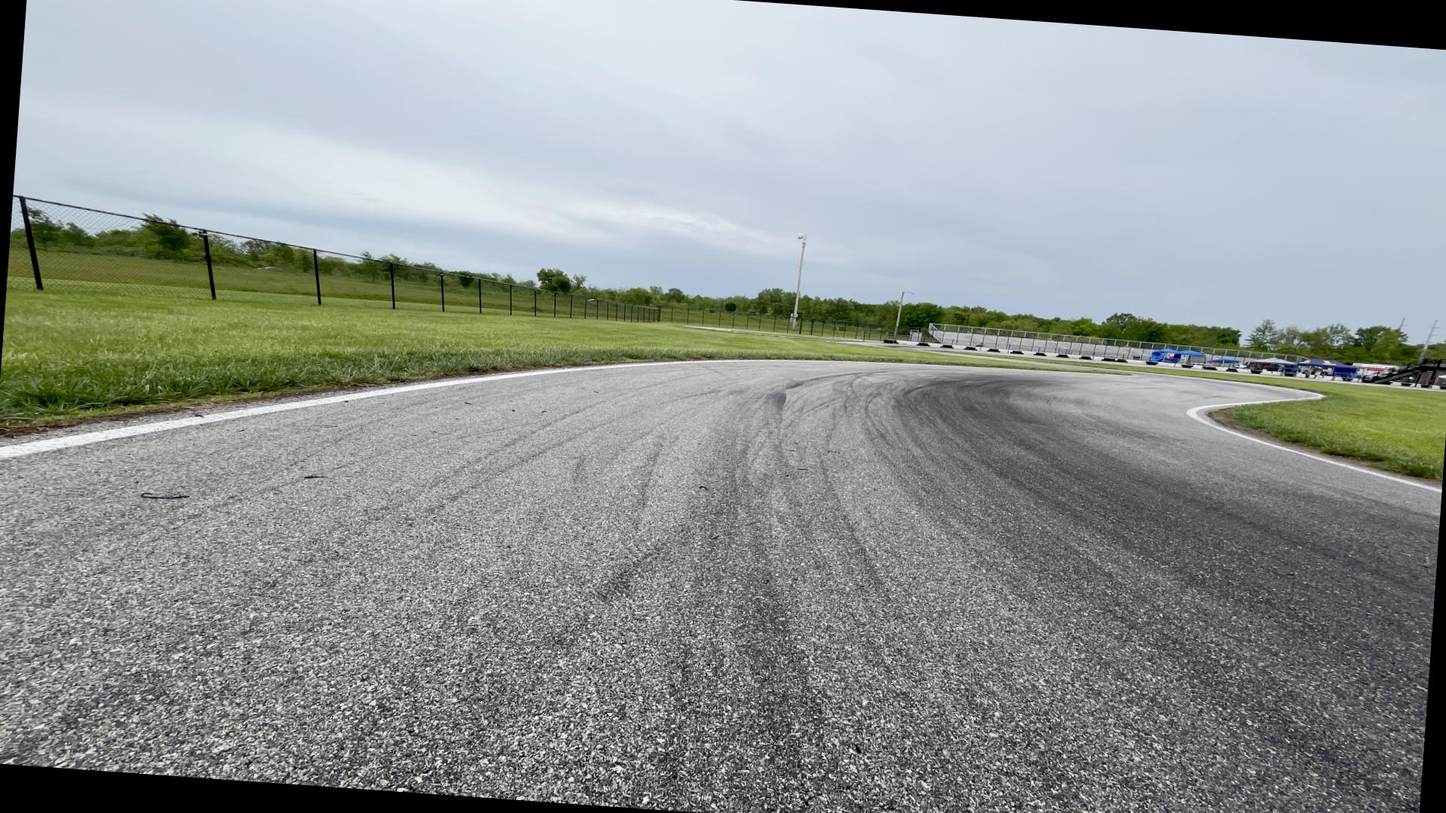white-line: (0, 358, 1135, 461), (1185, 382, 1441, 493)
